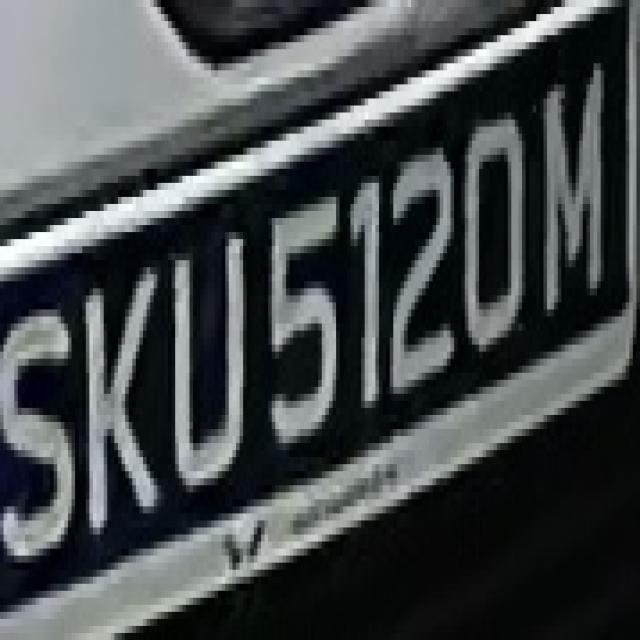0: (451, 98, 529, 366)
1: (347, 155, 393, 450)
2: (375, 134, 454, 422)
5: (258, 176, 344, 450)
K: (86, 253, 164, 556)
M: (533, 56, 608, 310)
S: (0, 260, 82, 591)
U: (161, 218, 250, 513)
